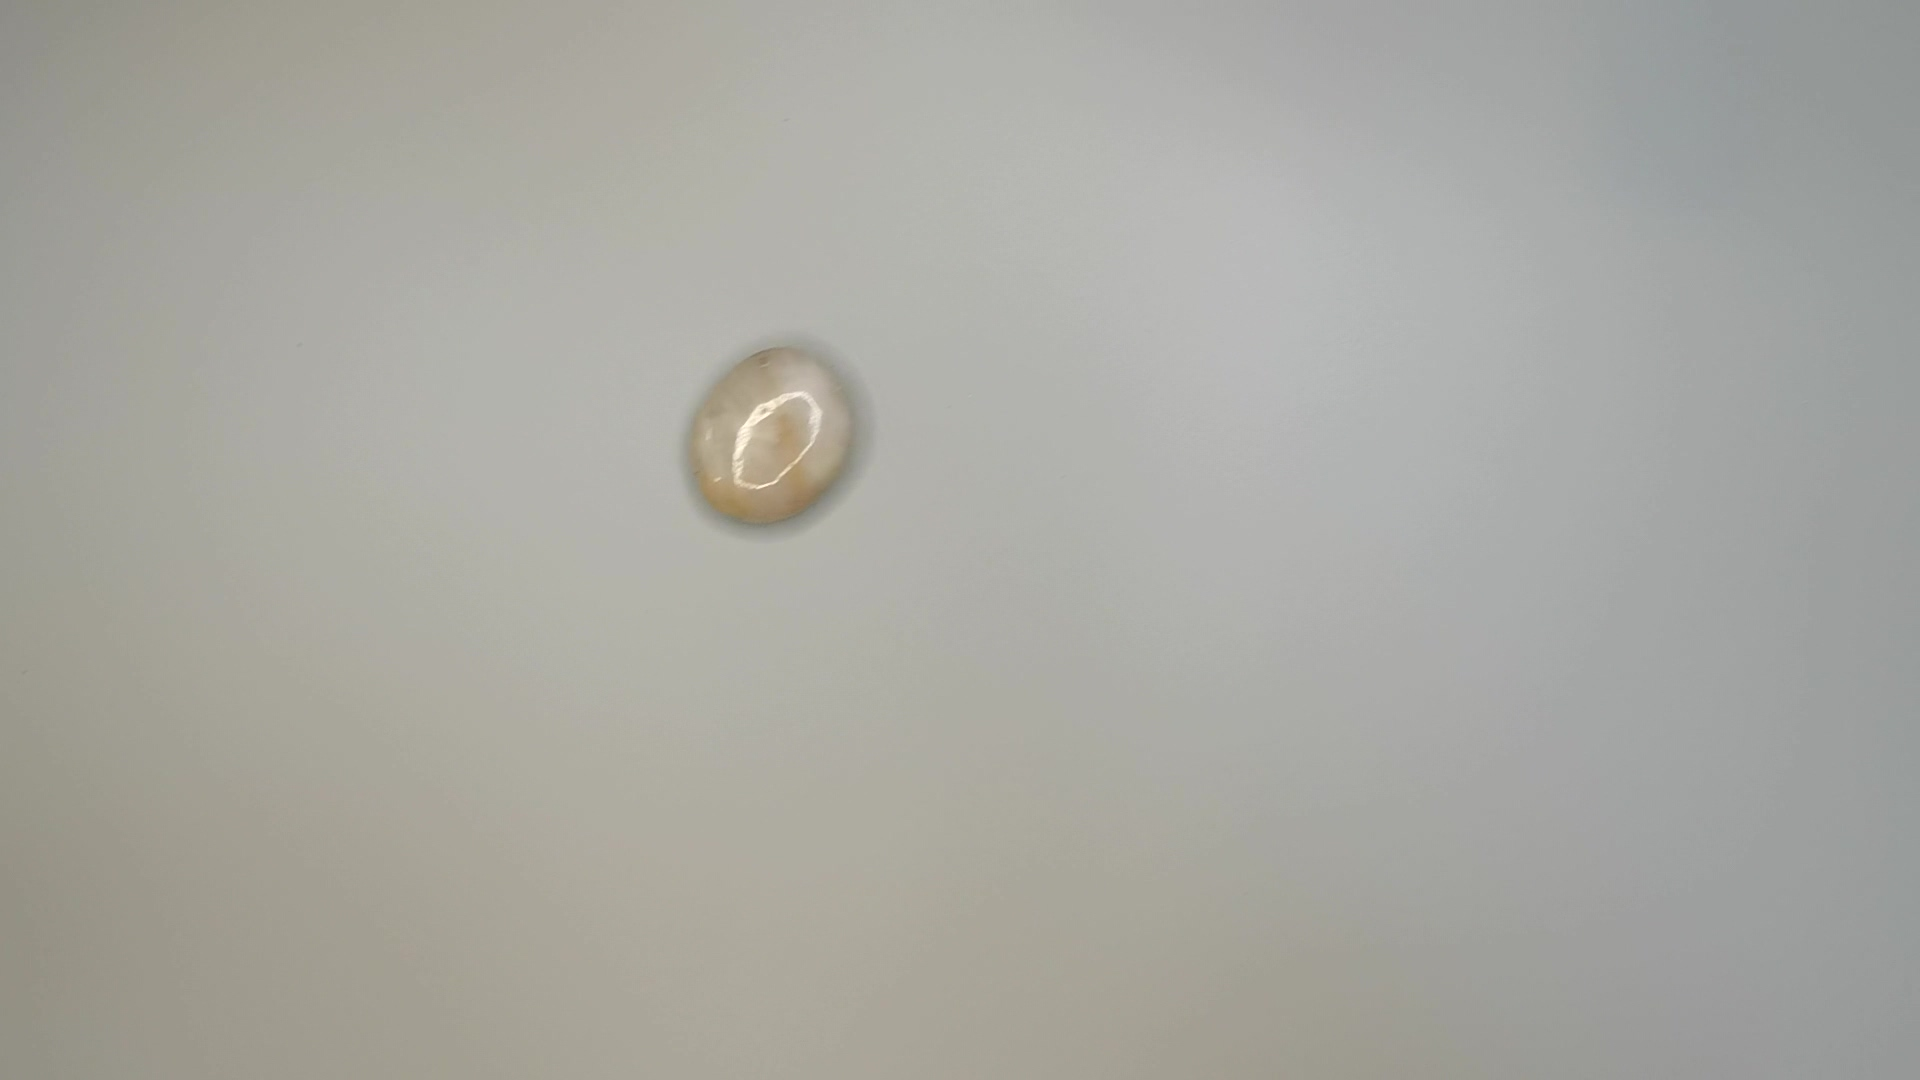ceramic: (688, 342, 864, 534)
